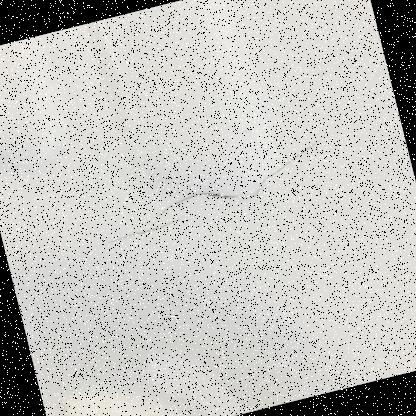Crack: (53, 118, 356, 282)
